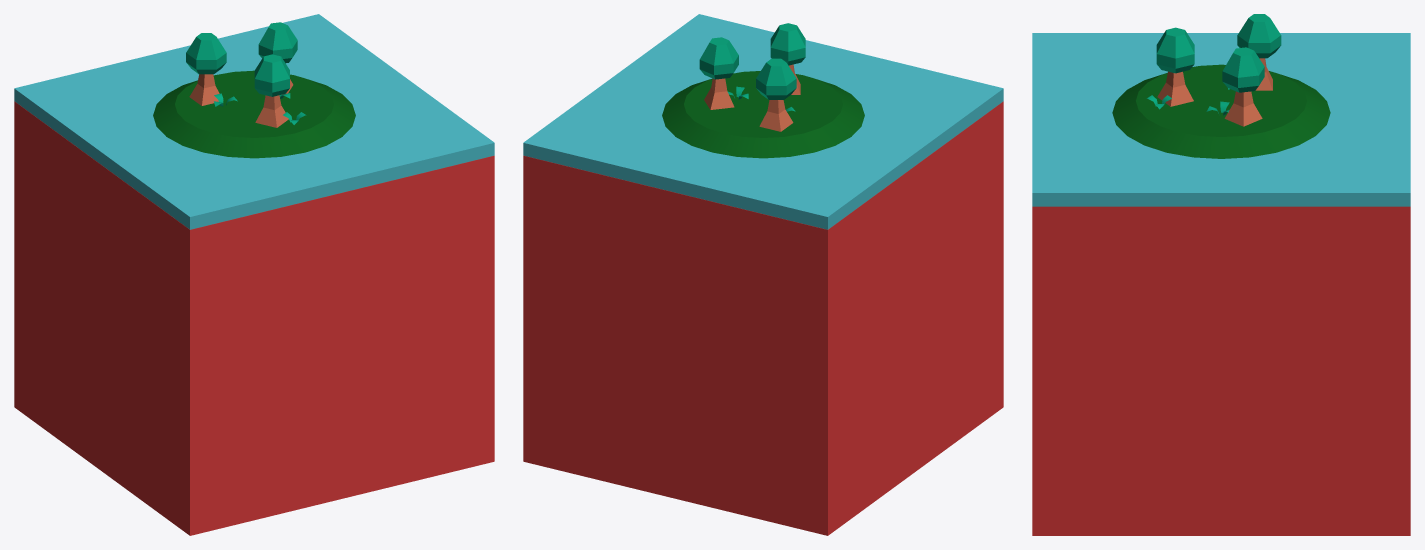
Rendered from Isla4.obj.
3 views of the same model, side by side, from view 1: azimuth 30°, elevation 25°; view 2: azimuth 150°, elevation 25°; view 3: azimuth 270°, elevation 25° (orthographic). The views are drawn at different scales.
Visible parts, largest first — view 1: mergedBlocks; view 2: mergedBlocks; view 3: mergedBlocks.
Boxes of the visible parts, x1=… form: mergedBlocks: x1=14, y1=14, x2=494, y2=535; mergedBlocks: x1=523, y1=14, x2=1003, y2=535; mergedBlocks: x1=1032, y1=14, x2=1410, y2=535.
Bounding box in the file's own units: 1 × 1.23 × 1.
